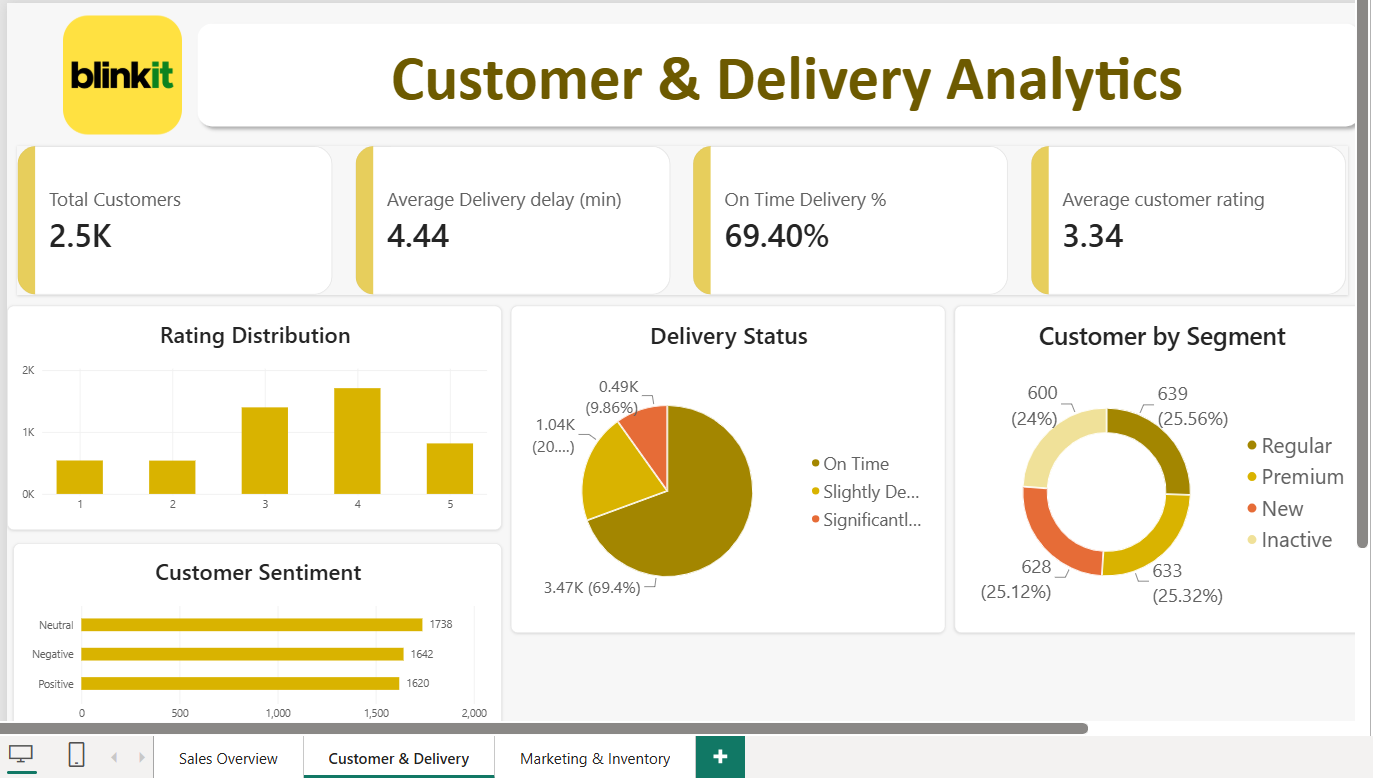

This screenshot's page, from the dashboard's own definition file:
{"tool":"powerbi","page":{"name":"Customer & Delivery","canvas":[1920,1080],"ordinal":1},"visuals":[{"type":"image","box":[10.9,14.5,280.5,220.8],"z":0},{"type":"cardVisual","fields":{"Data":["Count(public customers.customer_id)","Avg(public delivery_performance.delivery_delay_minutes)","public delivery_performance.On Time Delivery %","Avg(public customer_feedback.rating)"]},"box":[287.7,136.8,1589.5,196.5],"z":1000},{"type":"donutChart","title":"Customer by Segment","fields":{"Category":["public customers.customer_segment"],"Y":["Count(public customers.customer_id)"]},"box":[1184.2,356.1,693,371.9],"z":2000},{"type":"pieChart","title":"Delivery Status","fields":{"Category":["public delivery_performance.delivery_status"],"Y":["CountNonNull(public delivery_performance.delivery_status)"]},"box":[596.5,356.1,575,335.7],"z":3000},{"type":"clusteredColumnChart","title":"Rating Distribution","fields":{"Category":["public customer_feedback.rating"],"Y":["CountNonNull(public customer_feedback.feedback_id)"]},"box":[0,363.2,566.4,282.3],"z":4000},{"type":"clusteredBarChart","title":"Customer Sentiment","fields":{"Category":["public customer_feedback.sentiment"],"Y":["CountNonNull(public customer_feedback.feedback_id)"]},"box":[10.5,657.9,515.8,327.5],"z":5000},{"type":"shape","box":[287.7,14,1589.5,110.5],"z":6000},{"type":"textbox","box":[287.7,15.8,1589.5,108.8],"z":7000}]}

Visuals, with their boxes on the page's 1920x1080 design canvas (x1, y1, x2, y2). These are canvas units, not pixel positions in the 1373x778 screenshot, which may show the page scaled, cropped or inside an application window:
image: (11,14,291,235)
cardVisual - Count(public customers.customer_id) x Avg(public delivery_performance.delivery_delay_minutes): (288,137,1877,333)
"Customer by Segment" donutChart: (1184,356,1877,728)
"Delivery Status" pieChart: (596,356,1172,692)
"Rating Distribution" clusteredColumnChart: (0,363,566,646)
"Customer Sentiment" clusteredBarChart: (10,658,526,985)
shape: (288,14,1877,124)
textbox: (288,16,1877,125)
